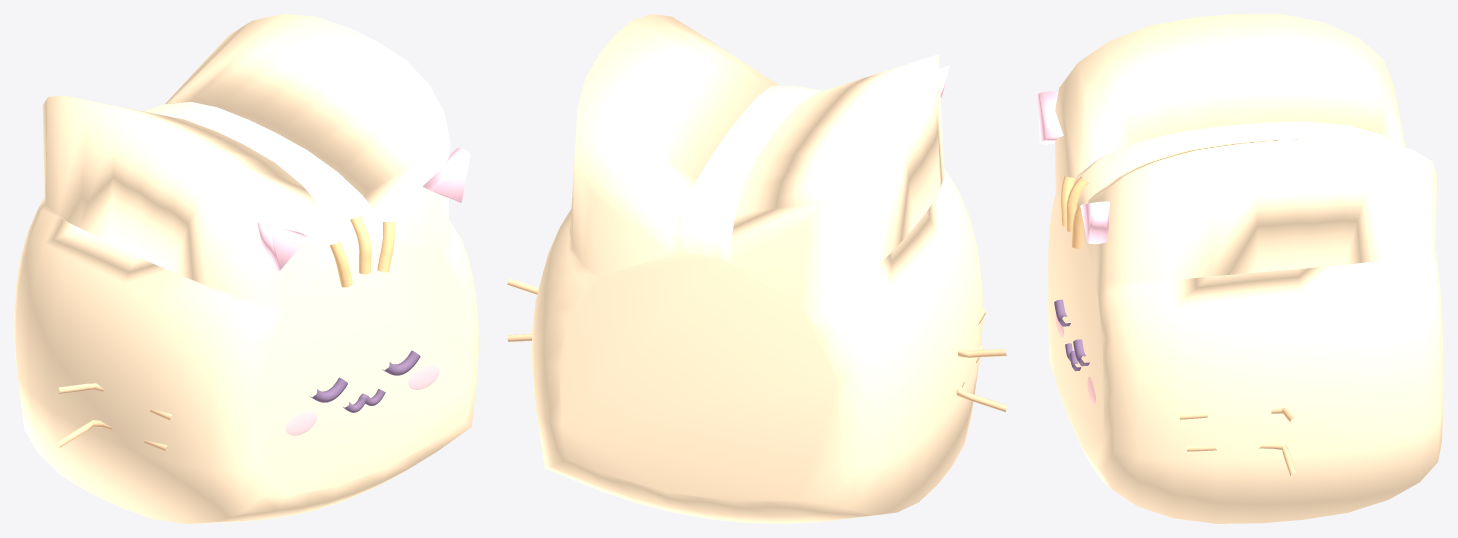
File: life_kitty.glb
3 renders of one model, left to right at view 1: azimuth 30°, elevation 25°; view 2: azimuth 150°, elevation 25°; view 3: azimuth 270°, elevation 25°, orthographic. The views are drawn at different scales.
Parts seen in each view (by area): view 1: wrap_kitty_1; view 2: wrap_kitty_1; view 3: wrap_kitty_1.
Part boxes in pixels (x1,y1,x2,y2): wrap_kitty_1: (14, 14, 478, 523); wrap_kitty_1: (507, 14, 1007, 523); wrap_kitty_1: (1037, 14, 1443, 523).
Size of the model in its own units: 4.03 by 3.57 by 3.32.
